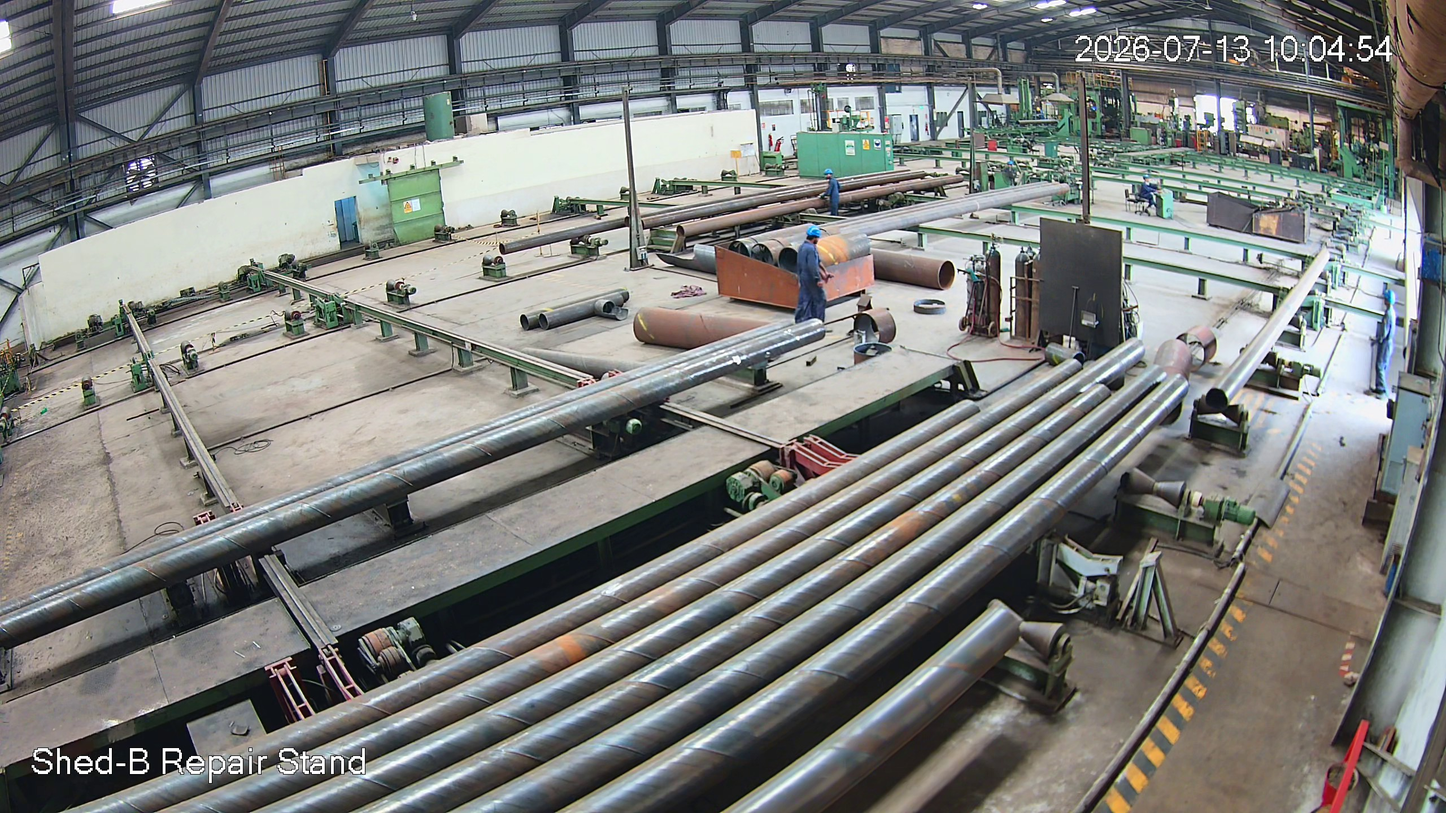Helmet: (805, 225, 833, 250)
Person: (794, 226, 831, 325)
